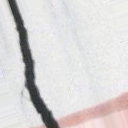crackTip: (5, 1, 63, 128)
